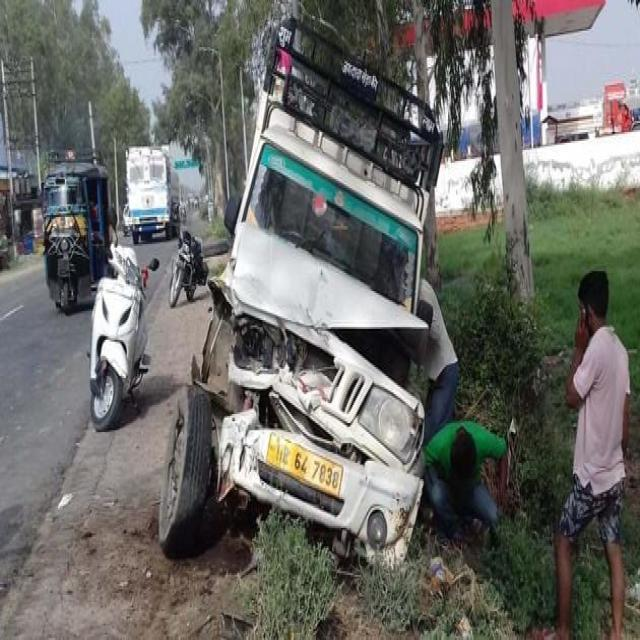accident: (159, 22, 443, 562)
autorickshaw: (44, 151, 109, 313)
motorcycle: (90, 204, 160, 430)
